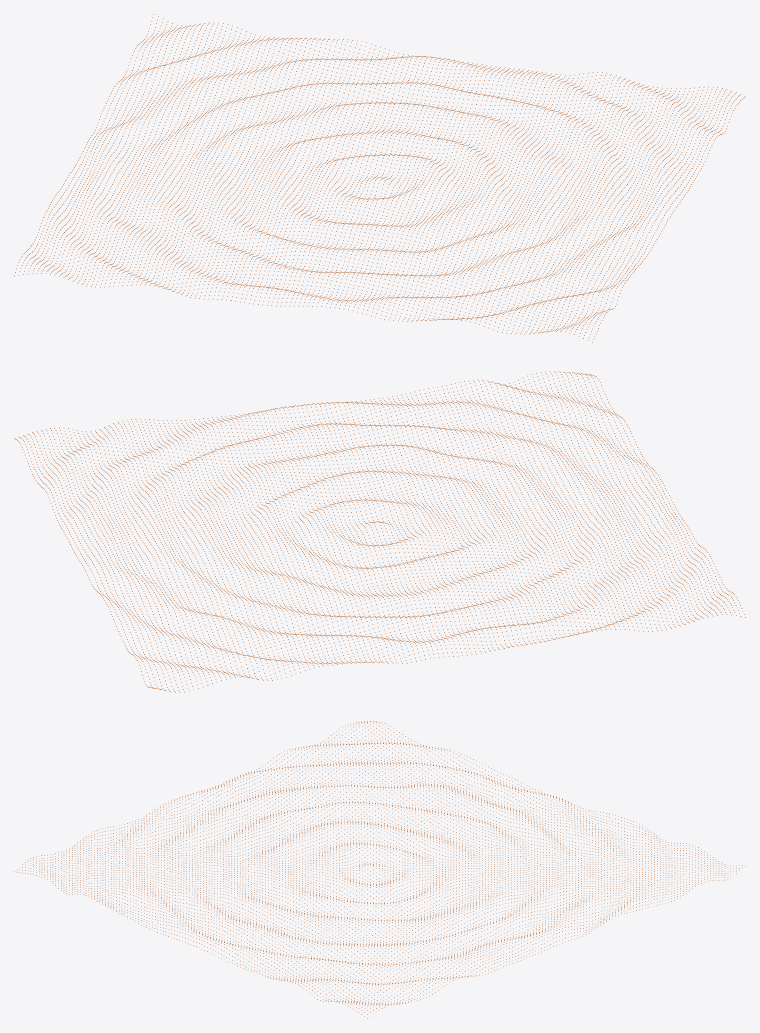
Rendered from wave-export-particles-v3-optimize.glb.
3 renders of one model, top to bottom at view 1: azimuth 30°, elevation 25°; view 2: azimuth 150°, elevation 25°; view 3: azimuth 270°, elevation 25°, orthographic. The views are drawn at different scales.
Parts seen in each view (by area): view 1: RAW_EXPORT; view 2: RAW_EXPORT; view 3: RAW_EXPORT.
Part boxes in pixels (x1,y1,x2,y2): RAW_EXPORT: [14, 14, 745, 342]; RAW_EXPORT: [14, 371, 745, 692]; RAW_EXPORT: [14, 721, 745, 1018].
Bounding box in the file's own units: 18.47 × 0.2201 × 19.18.
